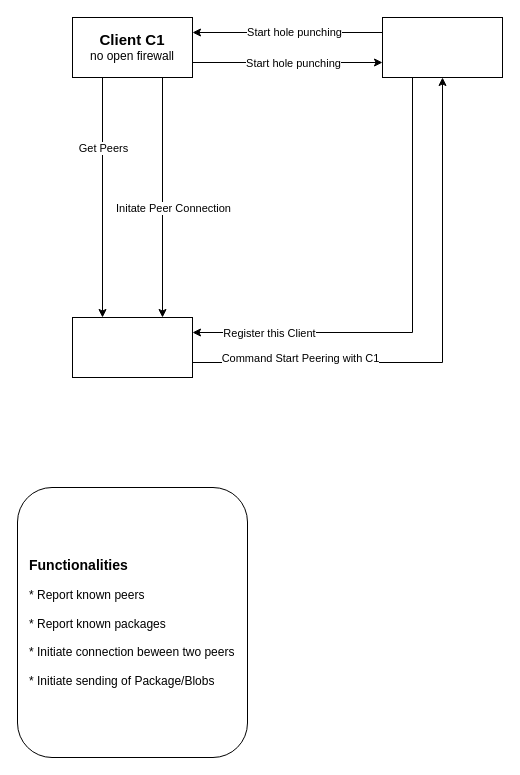
The diagram is 520 pixels wide and 775 high, and some of its shapes have lost their labels. The centre of each missing label's shape, as x and y in pixels:
Client C2 no open firewall: the point at 442,47
Client/Server S1 has open firewall: the point at 132,347
